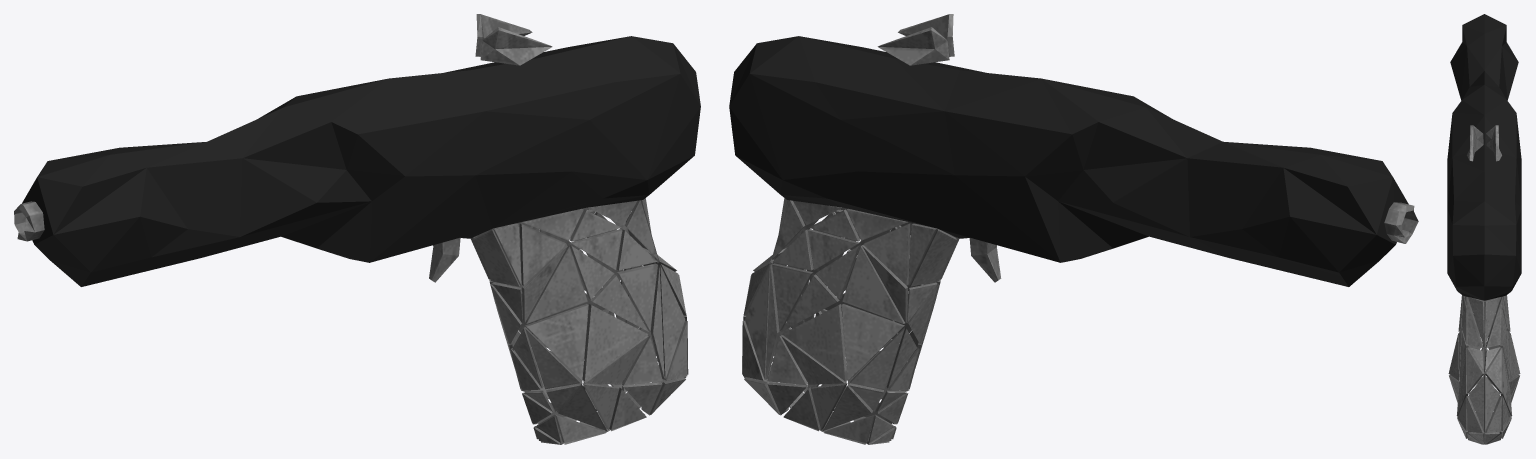
The model's file is gun.fbx.
The picture shows the model from 3 angles, left to right: view 1: azimuth 30°, elevation 25°; view 2: azimuth 150°, elevation 25°; view 3: azimuth 270°, elevation 25°; orthographic projection. The views are drawn at different scales.
Visible parts, largest first — view 1: gun; view 2: gun; view 3: gun.
Part boxes in pixels (x1,y1,x2,y2): gun: [14, 14, 700, 444]; gun: [729, 14, 1418, 444]; gun: [1447, 14, 1521, 444].
Bounding box in the file's own units: 263 × 163 × 38.98.
